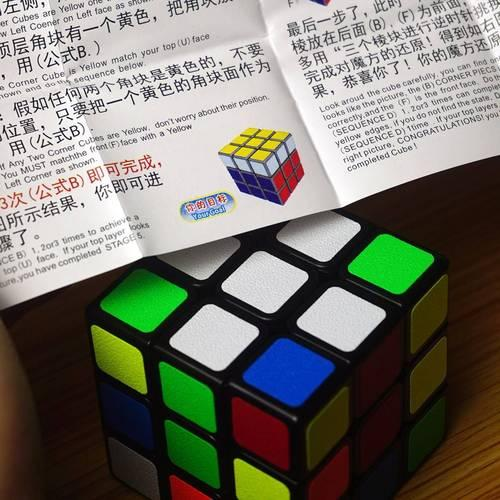cube: (75, 182, 470, 500), (212, 119, 325, 211)
